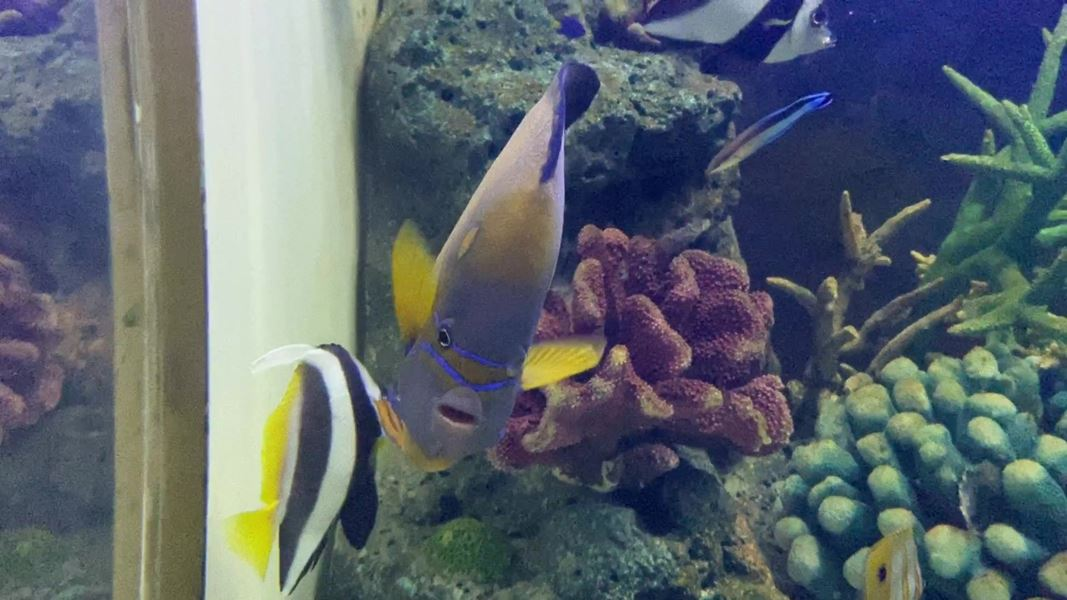Bluesteak cleaner wrasse: (702, 82, 838, 183)
